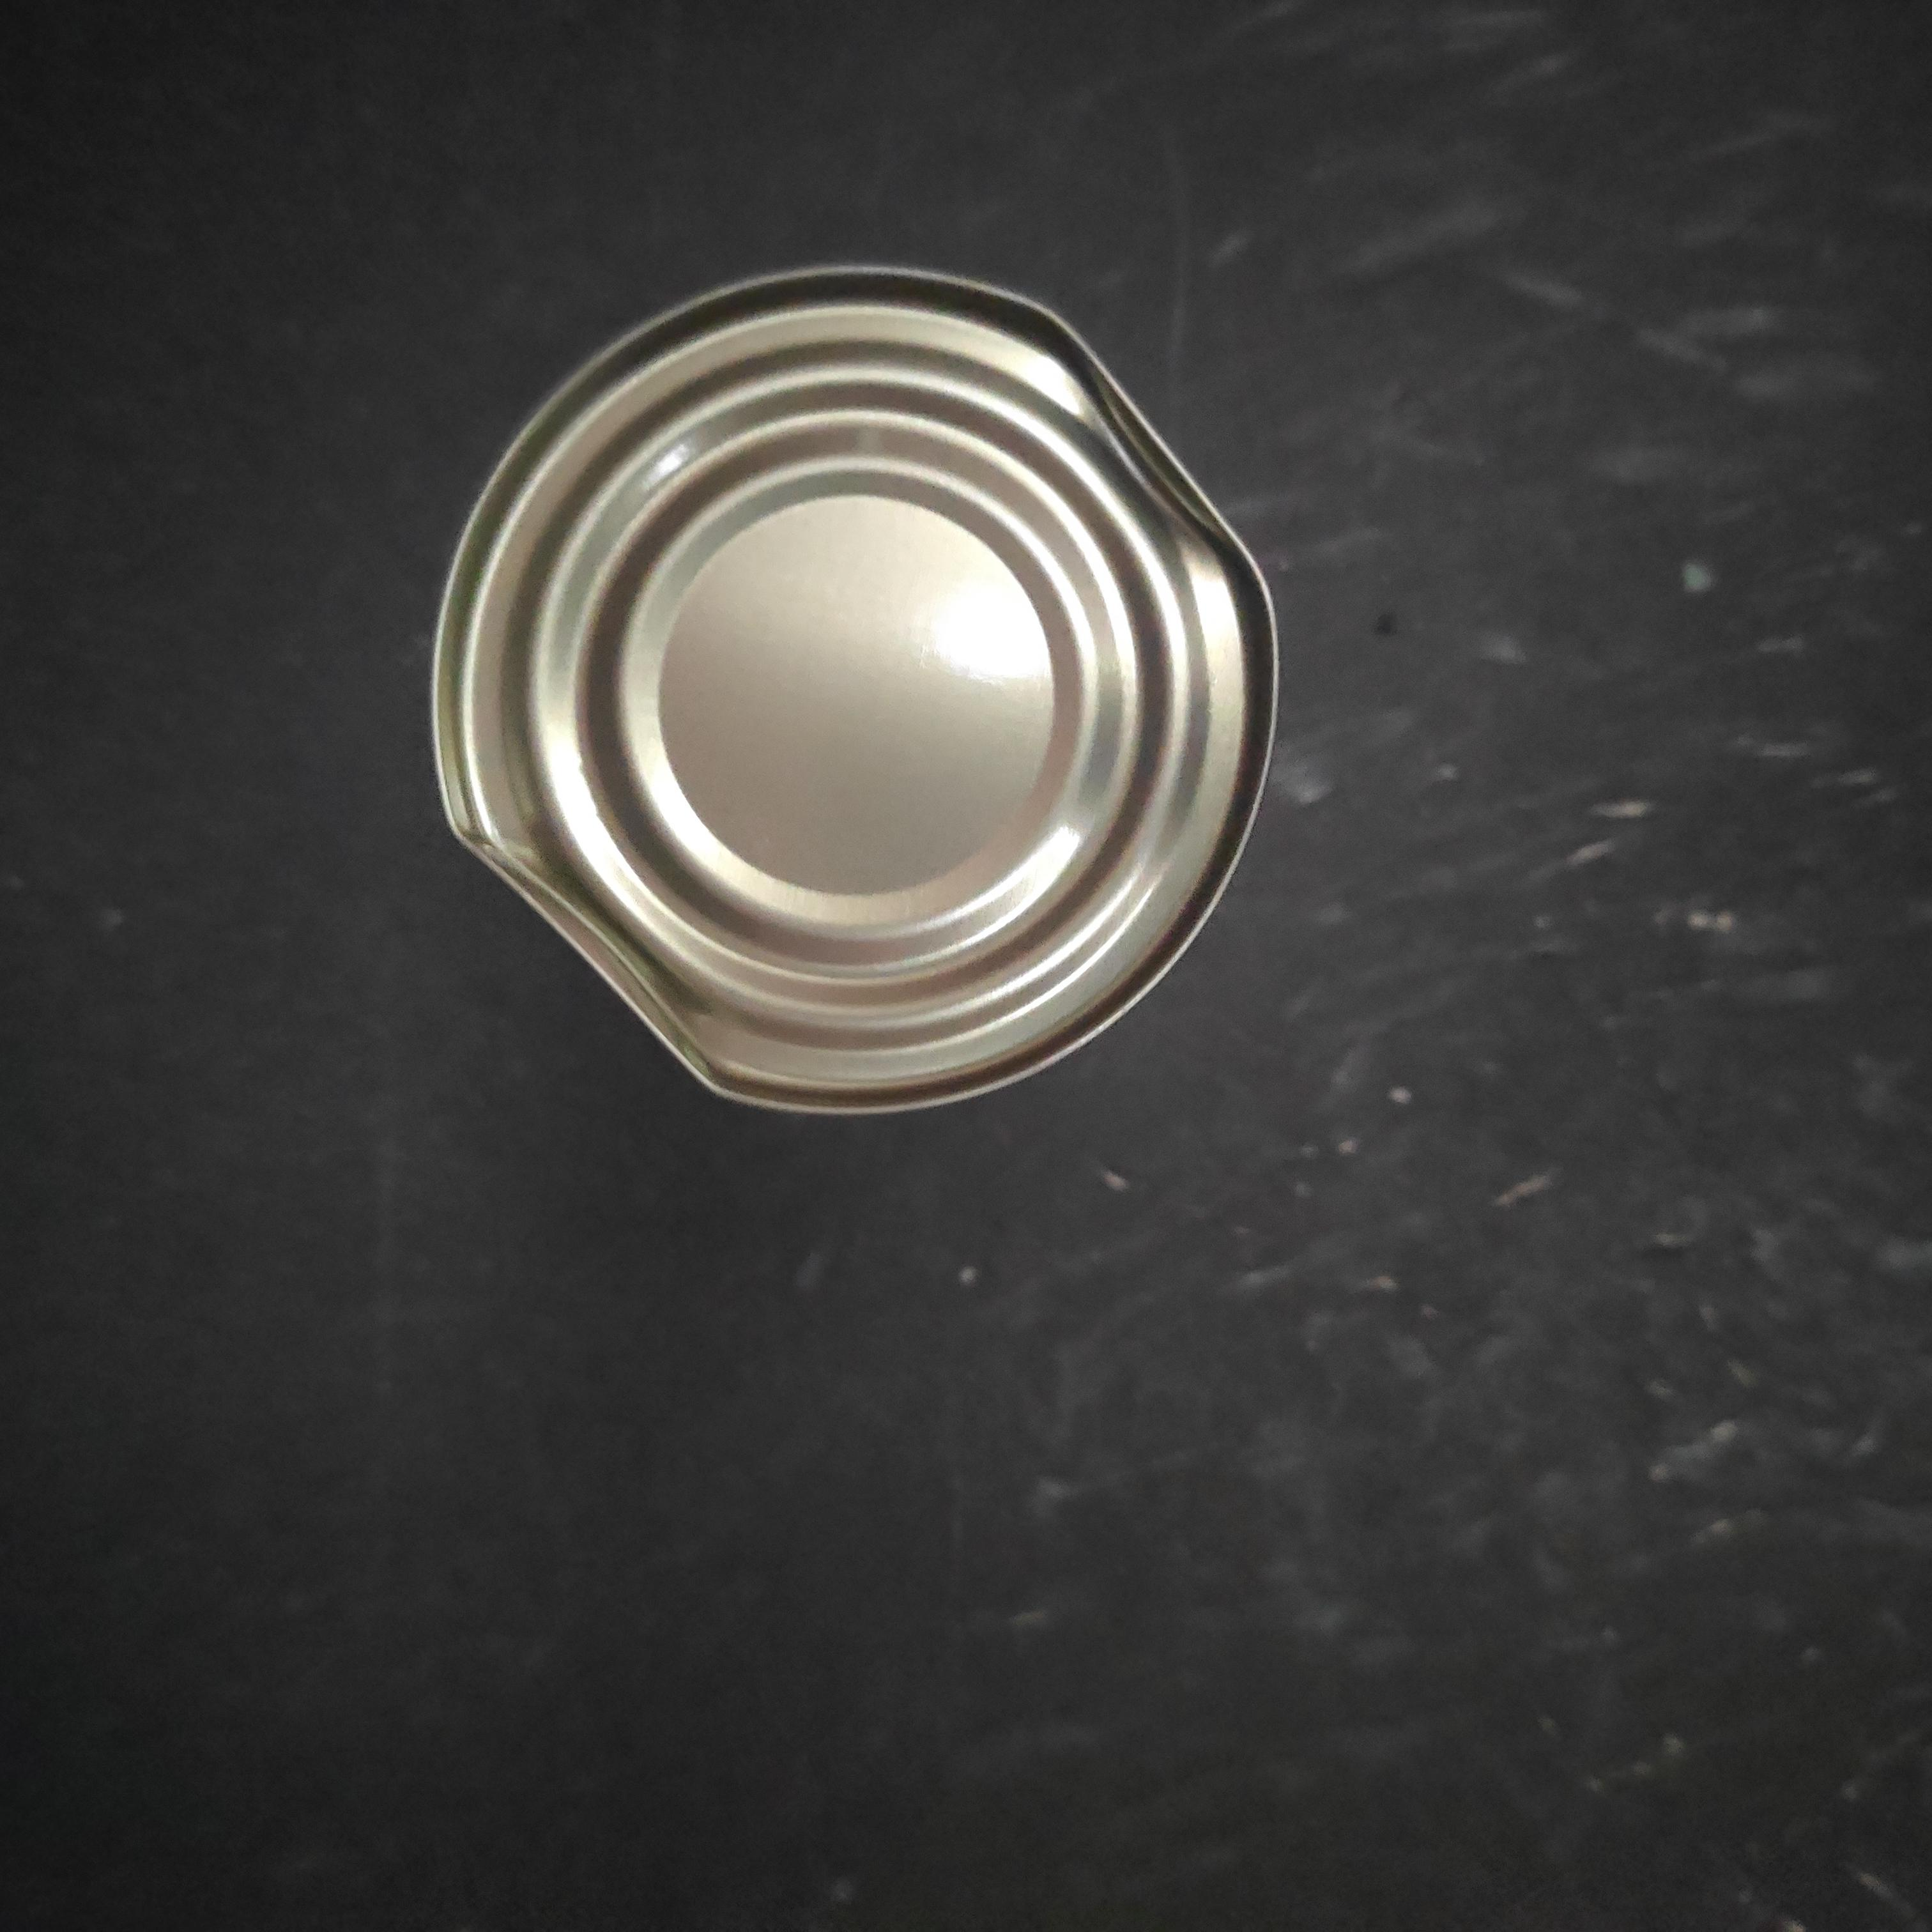Minor Defect: (637, 800, 1522, 1686)
